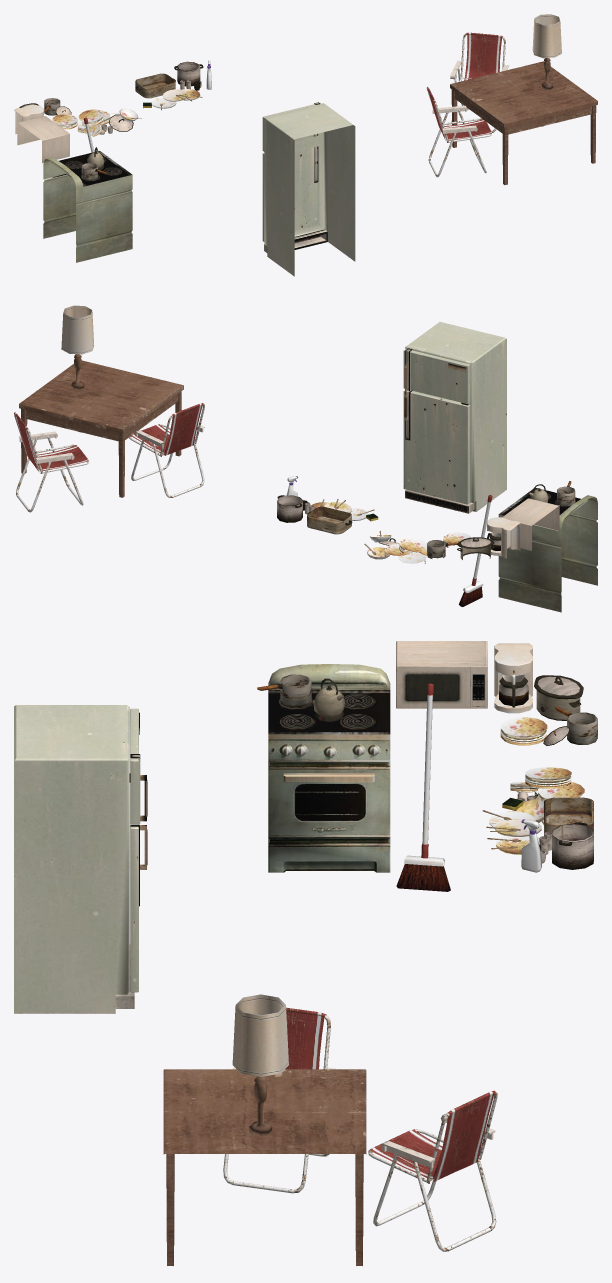
Rendered from MOVEIS_COZINHA.fbx.
3 renders of one model, top to bottom at view 1: azimuth 30°, elevation 25°; view 2: azimuth 150°, elevation 25°; view 3: azimuth 270°, elevation 25°, orthographic. The views are drawn at different scales.
Visible parts, largest first — view 1: Cozinha_Geladeira, Cozinha_Fogão, COZINHA_MESA, COZINHA_LOUCA, COZINHA_CADEIRA2, COZINHA_CADEIORA1, COZINHA_MICROONDAS, COZINHA_LUZ_MESA, COZINHA_CAFETEIRA, COZINHA_PANELACOMTAMPA; view 2: Cozinha_Geladeira, COZINHA_MESA, Cozinha_Fogão, COZINHA_LOUCA, COZINHA_CADEIORA1, COZINHA_CADEIRA2, COZINHA_LUZ_MESA, COZINHA_MICROONDAS, COZINHA_CAFETEIRA, COZINHA_VASSOURA, COZINHA_PANELAELETRICA; view 3: Cozinha_Geladeira, Cozinha_Fogão, COZINHA_MESA, COZINHA_CADEIRA2, COZINHA_LOUCA, COZINHA_MICROONDAS, COZINHA_LUZ_MESA, COZINHA_CADEIORA1, COZINHA_VASSOURA, COZINHA_CAFETEIRA, COZINHA_PANELAELETRICA, COZINHA_PANELACOMTAMPA (+4 smaller).
Part boxes in pixels (x1,y1,x2,y2): Cozinha_Geladeira: (262,102,355,276); Cozinha_Fogão: (43,151,132,262); COZINHA_MESA: (450,61,597,184); COZINHA_LOUCA: (77,61,203,136); COZINHA_CADEIRA2: (450,32,509,132); COZINHA_CADEIORA1: (426,87,491,177); COZINHA_MICROONDAS: (17,116,69,163); COZINHA_LUZ_MESA: (532,14,561,90); COZINHA_CAFETEIRA: (14,104,43,134); COZINHA_PANELACOMTAMPA: (44,98,71,115); Cozinha_Geladeira: (403,322,506,513); COZINHA_MESA: (19,360,183,497); Cozinha_Fogão: (498,487,597,612); COZINHA_LOUCA: (277,495,427,564); COZINHA_CADEIORA1: (129,403,204,497); COZINHA_CADEIRA2: (14,412,89,512); COZINHA_LUZ_MESA: (61,305,94,390); COZINHA_MICROONDAS: (502,498,559,550); COZINHA_CAFETEIRA: (487,517,520,558); COZINHA_VASSOURA: (459,495,492,606); COZINHA_PANELAELETRICA: (457,537,494,559); Cozinha_Geladeira: (14,705,147,1013); Cozinha_Fogão: (268,664,390,872); COZINHA_MESA: (163,1069,366,1265); COZINHA_CADEIRA2: (368,1090,497,1251); COZINHA_LOUCA: (482,767,593,869); COZINHA_MICROONDAS: (396,641,487,708); COZINHA_LUZ_MESA: (232,994,288,1136); COZINHA_CADEIORA1: (223,1007,335,1193); COZINHA_VASSOURA: (396,683,450,891); COZINHA_CAFETEIRA: (494,643,532,713); COZINHA_PANELAELETRICA: (534,675,583,720); COZINHA_PANELACOMTAMPA: (543,706,597,745).
Bounding box in the file's own units: 70219 × 18733 × 38678.
